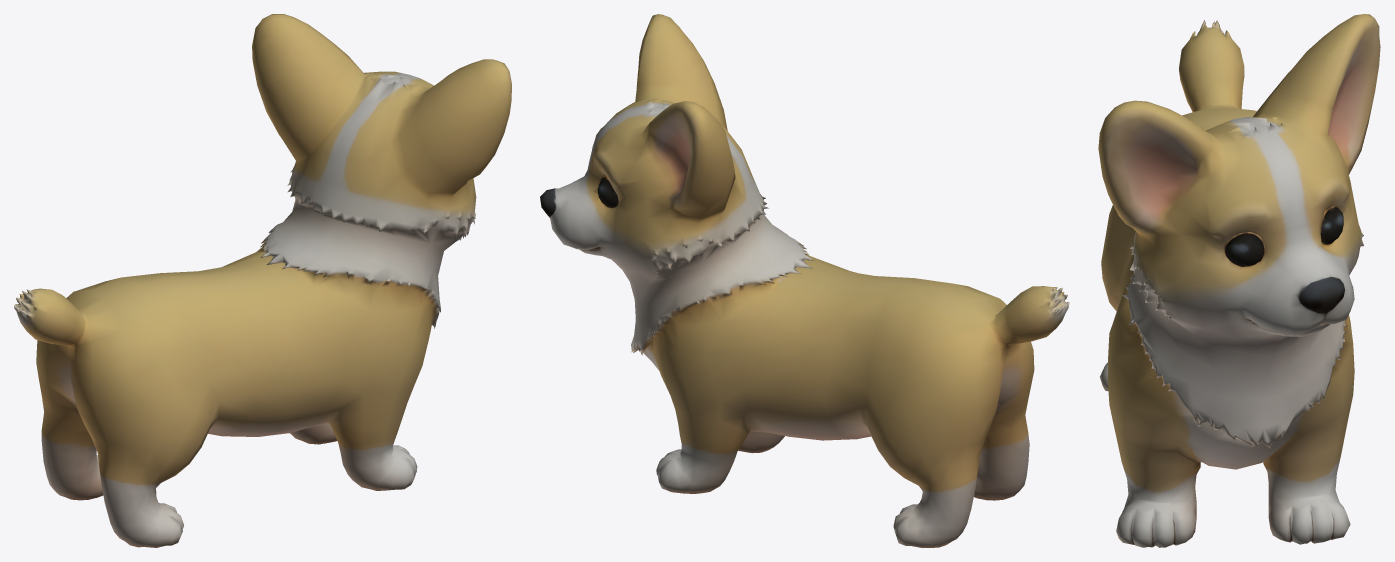
The picture shows the model from 3 angles, left to right: view 1: azimuth 30°, elevation 25°; view 2: azimuth 150°, elevation 25°; view 3: azimuth 270°, elevation 25°; orthographic projection. The views are drawn at different scales.
Visible parts, largest first — view 1: tripo_node_180ead5a-8bda-45fd-b040-d7b0a1e80836; view 2: tripo_node_180ead5a-8bda-45fd-b040-d7b0a1e80836; view 3: tripo_node_180ead5a-8bda-45fd-b040-d7b0a1e80836.
Part boxes in pixels (x1,y1,x2,y2): tripo_node_180ead5a-8bda-45fd-b040-d7b0a1e80836: (14,14,511,547); tripo_node_180ead5a-8bda-45fd-b040-d7b0a1e80836: (540,14,1069,547); tripo_node_180ead5a-8bda-45fd-b040-d7b0a1e80836: (1098,14,1380,547).
Size of the model in its own units: 0.998 by 0.8027 by 0.4043.
1 material, 1 textured.
